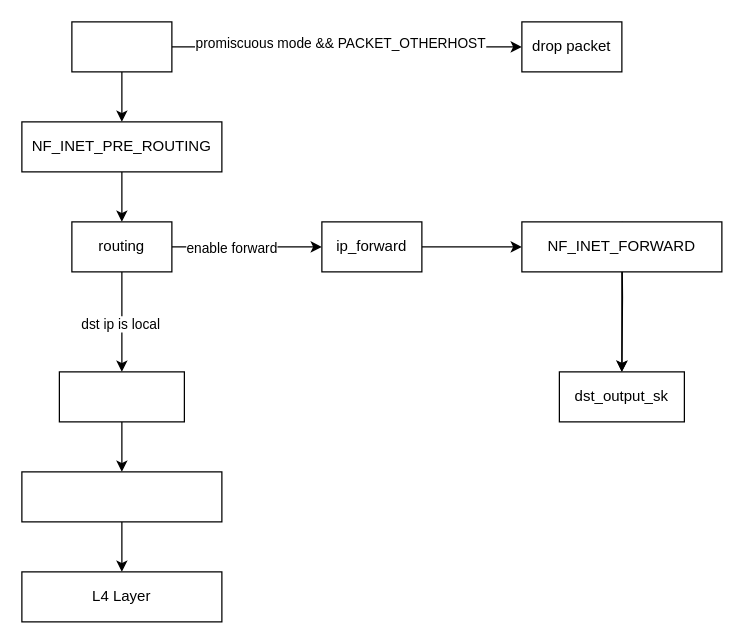
Some shapes in this 744 by 644 pixel diagram are drawn without their labels. Here are the shapes that lost their labels. From the top down, the centre of each, then its label:
At point 121,46: "ip_rcv".
At point 121,396: "ip_local_deliver".
At point 121,496: "NF_INET_LOCAL_IN".
